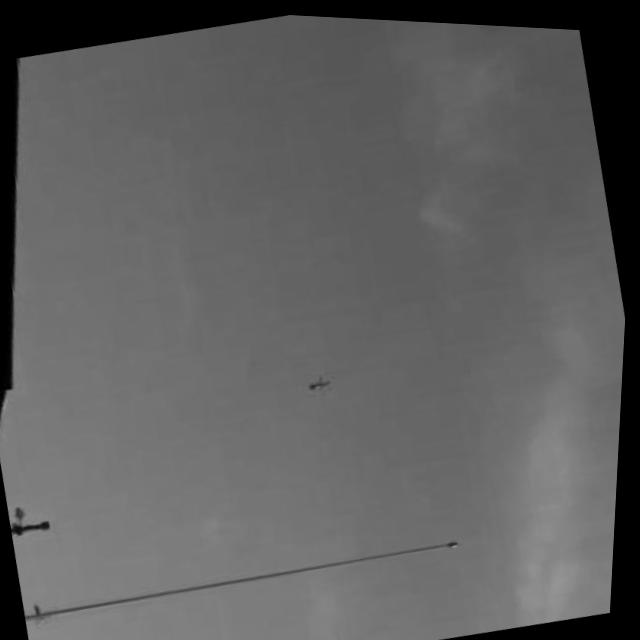helikopter: (309, 369, 338, 391)
